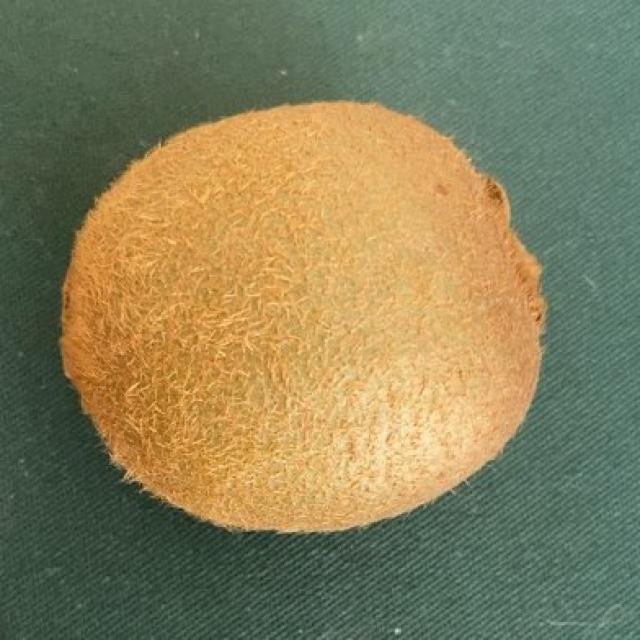kiwi: (64, 104, 538, 528)
